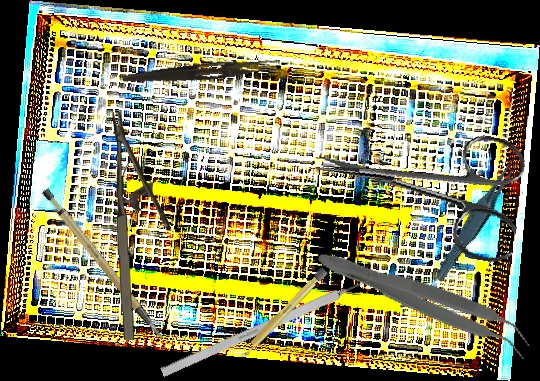Dressing Forceps: (122, 53, 281, 91)
Hook Surgical: (160, 271, 382, 378)
Iris Scissors: (305, 105, 533, 266)
Needle Holder: (112, 111, 173, 341)
Scalpel Handle: (39, 175, 166, 357), (237, 266, 329, 361)
Tissue Forceps: (310, 243, 539, 361), (425, 149, 534, 284)
